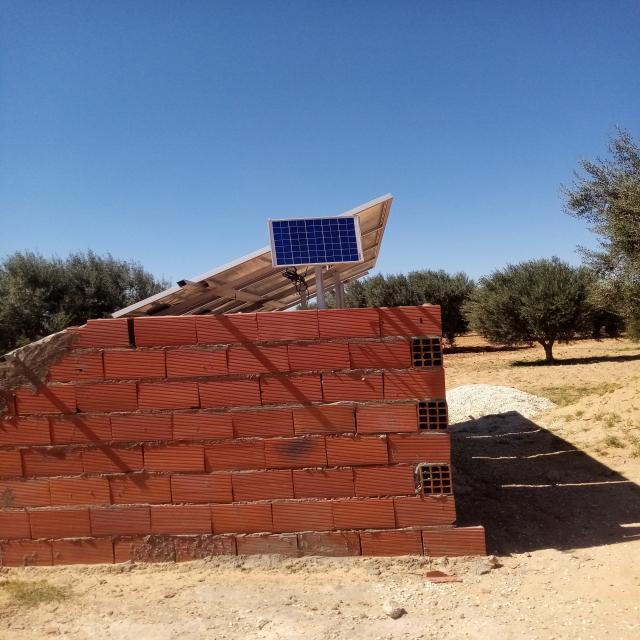no faulty: (268, 215, 363, 267)
